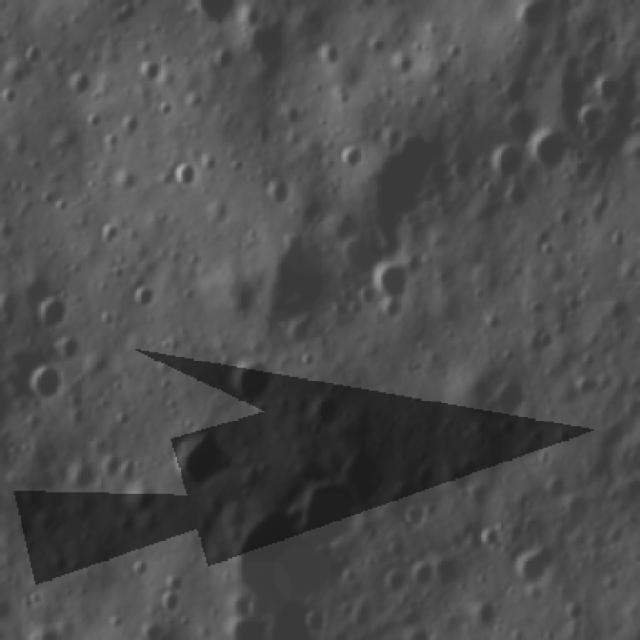crater: (230, 514, 353, 608), (362, 127, 452, 241), (253, 237, 350, 332), (298, 478, 364, 544), (172, 430, 235, 492), (222, 348, 284, 409), (362, 261, 423, 317), (509, 542, 571, 590), (167, 144, 208, 196), (386, 484, 428, 533), (26, 358, 72, 402), (33, 286, 76, 332), (484, 146, 524, 188), (528, 128, 568, 170), (375, 565, 413, 604), (406, 554, 442, 588), (460, 601, 498, 633), (152, 590, 188, 621)
